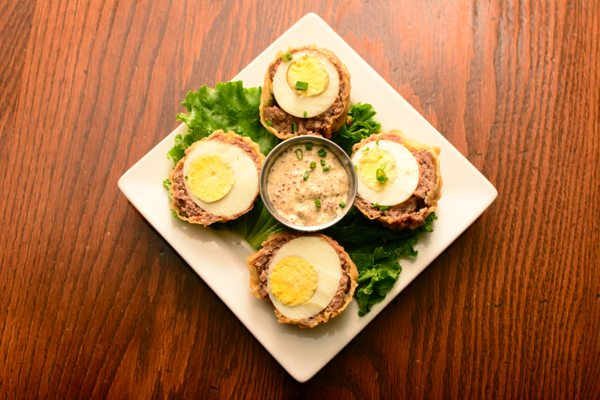soup: (351, 127, 442, 233)
sushi: (260, 134, 357, 231)
taco: (167, 129, 265, 227), (261, 232, 359, 329)
